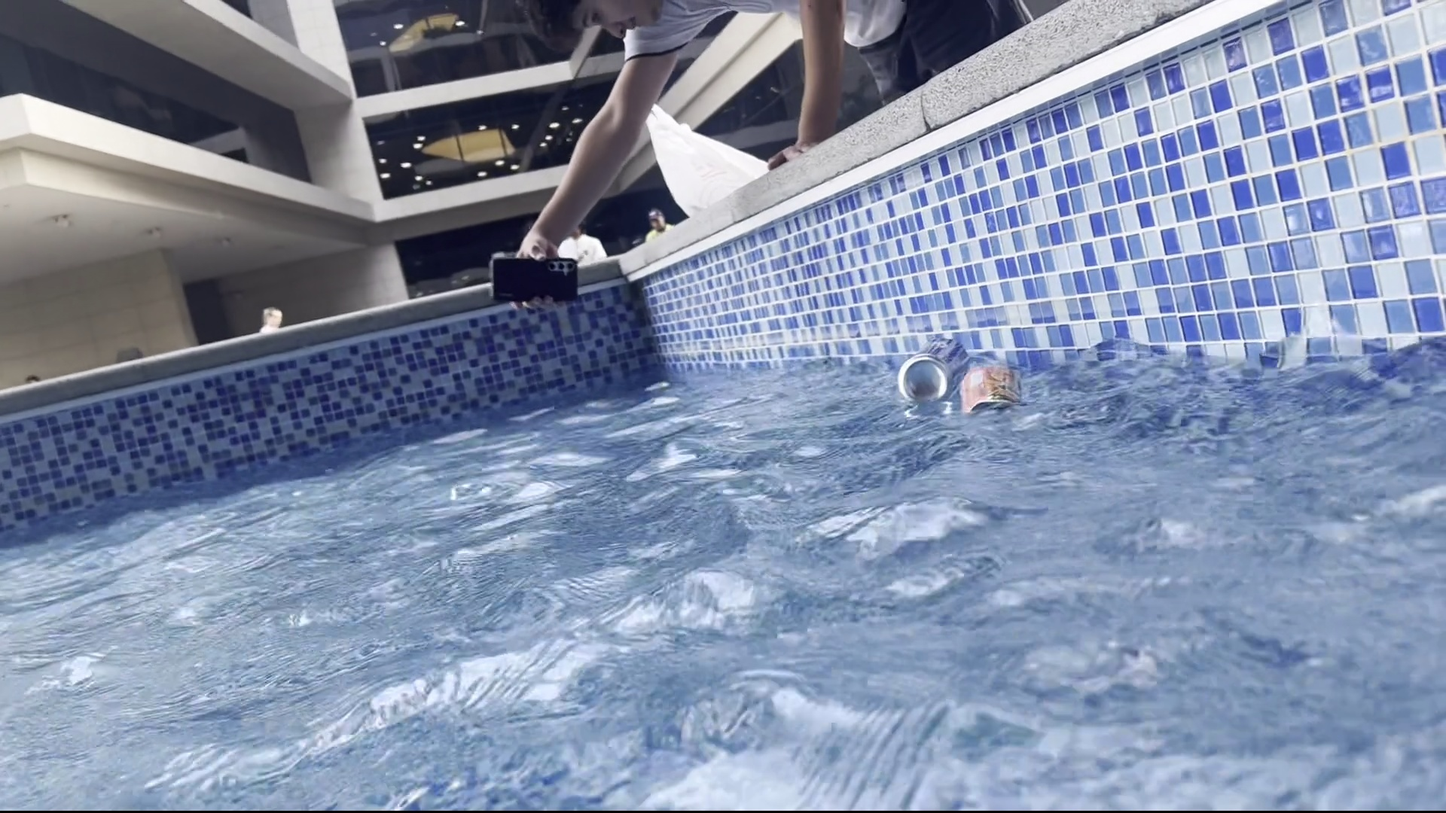debris: (889, 334, 970, 408), (945, 358, 1027, 423)
